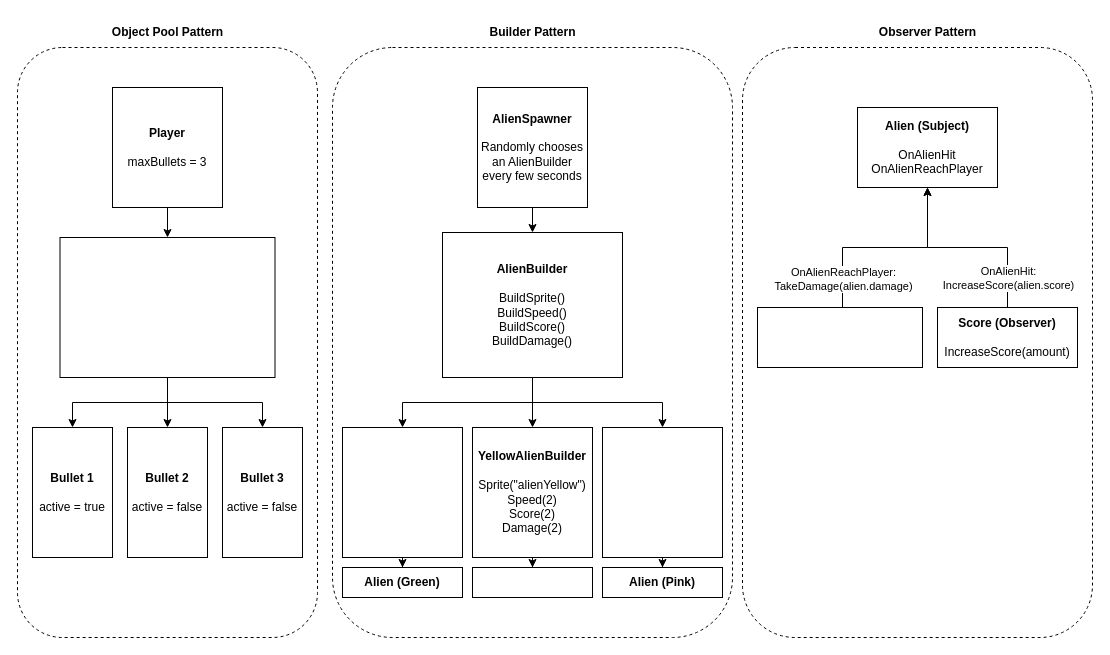
Some shapes in this 1110 by 655 pixel diagram are drawn without their labels. Here are the shapes that lost their labels. From the top down, the centre of each, then its label:
[167,307]: BulletSpawner Bullet[] pool = new Bullet[ maxBullets]
[839,337]: Player (Observer) TakeDamage(damageAmount)
[402,492]: GreenAlienBuilder Sprite("alienGreen") Speed(3) Score(3) Damage(1)
[662,492]: PinkAlienBuilder Sprite("alienPink") Speed(1) Score(1) Damage(3)
[532,582]: Alien (Yellow)
